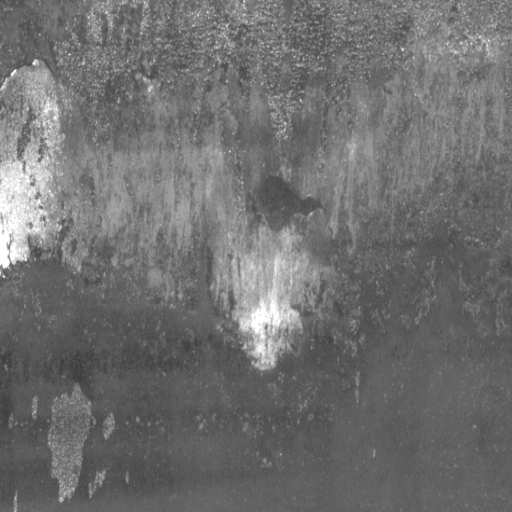qiaopi: (203, 173, 325, 373), (1, 54, 62, 281), (46, 380, 117, 503)
